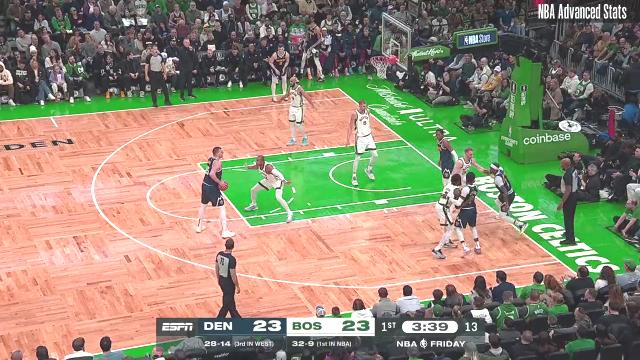3_dx: (553, 256, 563, 264)
3_sx: (344, 93, 354, 100)
b_sx: (332, 82, 343, 94)
free_adx: (244, 220, 260, 234)
free_asx: (193, 158, 204, 170)
free_bsx: (397, 135, 407, 143)
mid_sx: (45, 113, 57, 123)
referee: (215, 238, 243, 318), (558, 157, 580, 247), (145, 46, 171, 106)
team: (197, 146, 236, 240), (490, 163, 528, 236), (457, 170, 481, 254), (436, 129, 460, 193), (272, 43, 290, 102)
team1: (246, 156, 294, 222), (347, 99, 378, 187), (281, 78, 315, 146), (436, 174, 460, 258), (453, 146, 491, 192)
timer: (410, 320, 450, 334)
